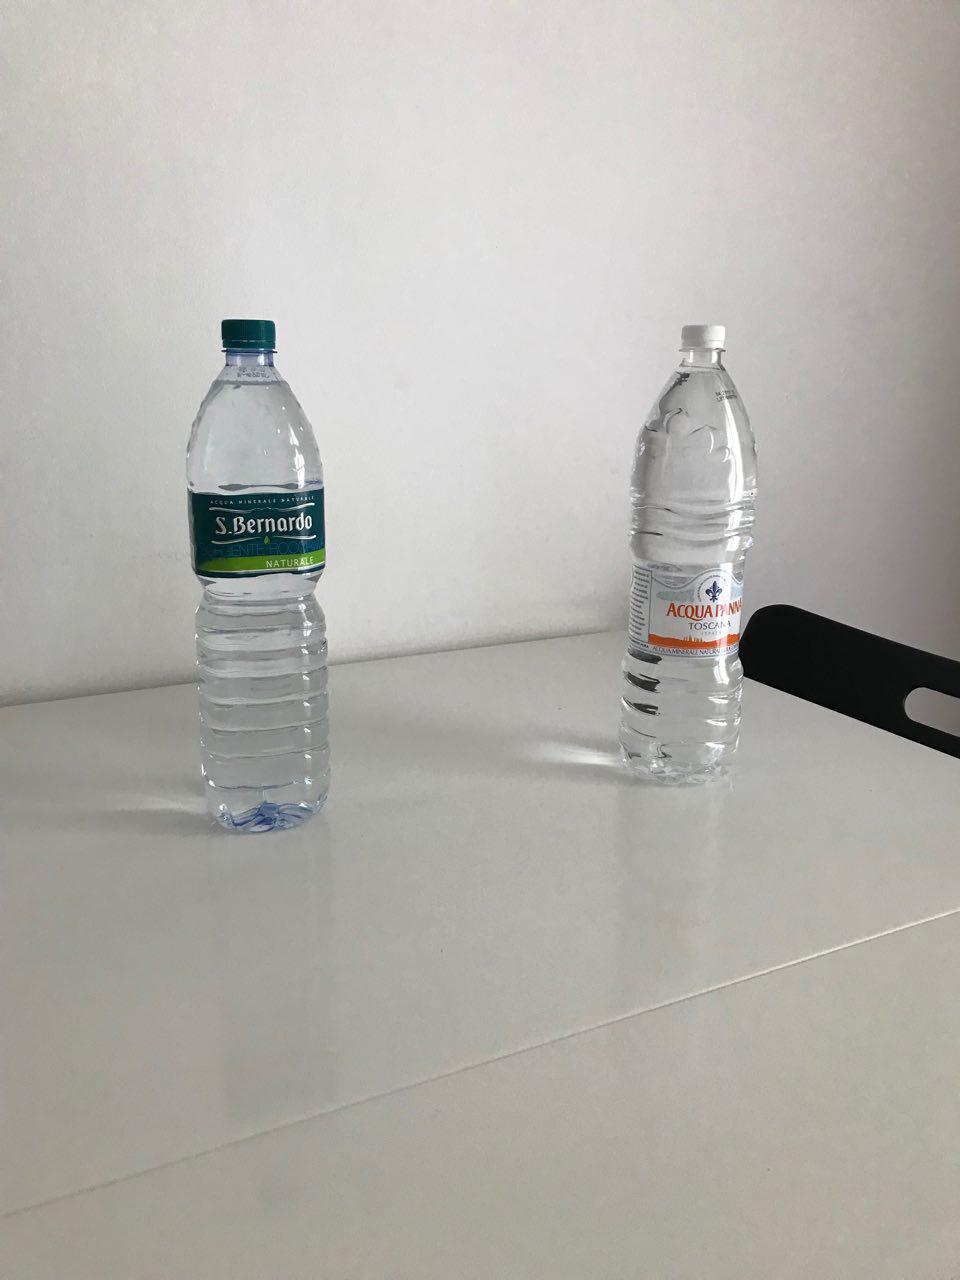san_bernardo: (185, 318, 331, 835)
